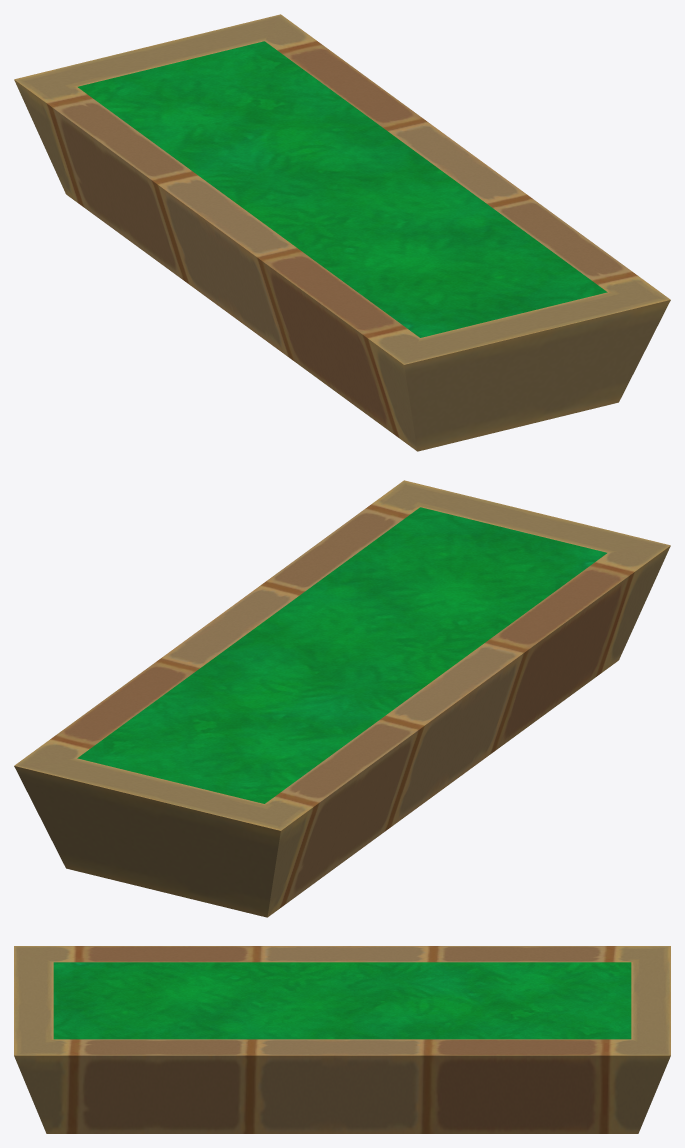
The model's file is Plant01_d02.FBX.
3 renders of one model, top to bottom at view 1: azimuth 30°, elevation 25°; view 2: azimuth 150°, elevation 25°; view 3: azimuth 270°, elevation 25°, orthographic. The views are drawn at different scales.
Visible parts, largest first — view 1: Plant01_d02; view 2: Plant01_d02; view 3: Plant01_d02.
Boxes of the visible parts, x1,y1,x2,y2 form: Plant01_d02: (14,14,670,451); Plant01_d02: (14,480,670,917); Plant01_d02: (14,946,670,1133).
Bounding box in the file's own units: 121 × 47.09 × 306.
Materials: 2 (2 with a texture image).
